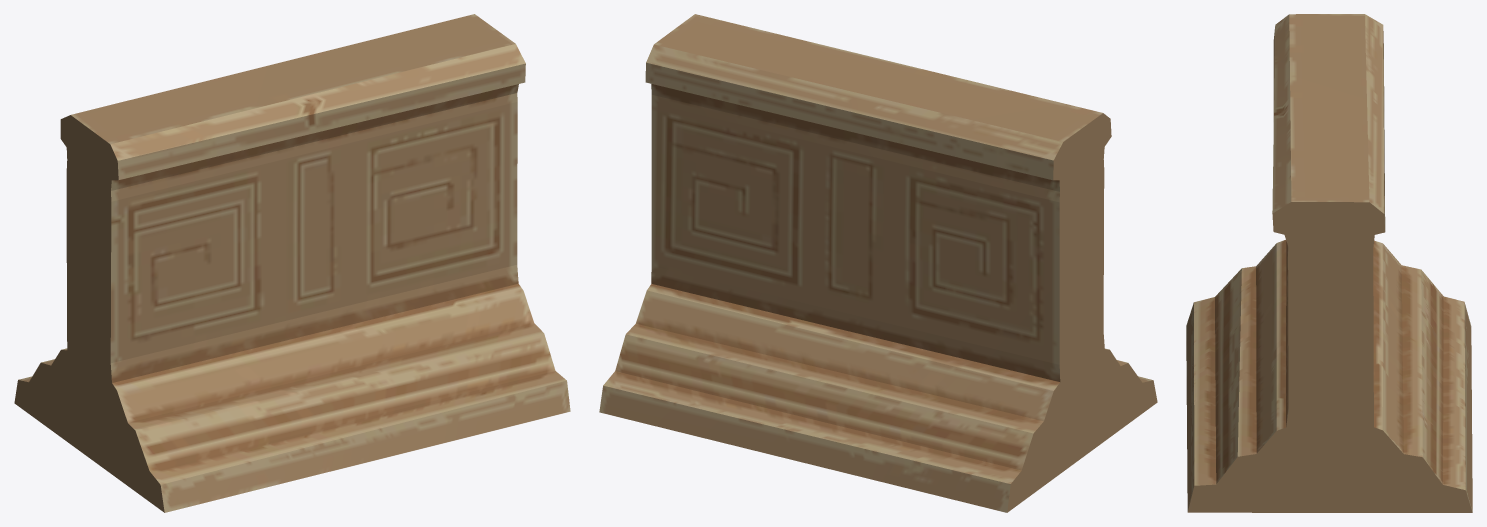
File: wallTile_01.fbx
The picture shows the model from 3 angles, left to right: view 1: azimuth 30°, elevation 25°; view 2: azimuth 150°, elevation 25°; view 3: azimuth 270°, elevation 25°; orthographic projection. The views are drawn at different scales.
Visible parts, largest first — view 1: wallTile_01; view 2: wallTile_01; view 3: wallTile_01.
Boxes of the visible parts, x1,y1,x2,y2 form: wallTile_01: (14, 14, 570, 512); wallTile_01: (599, 14, 1157, 512); wallTile_01: (1186, 14, 1472, 512).
Bounding box in the file's own units: 3.54 × 2.74 × 2.28.
Materials: 1 (1 with a texture image).
